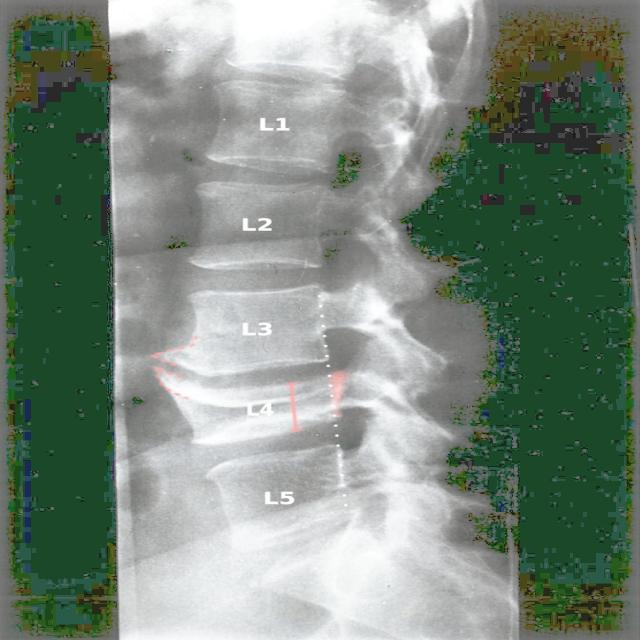Compression-Crush Fracutre: (144, 344, 348, 446)
